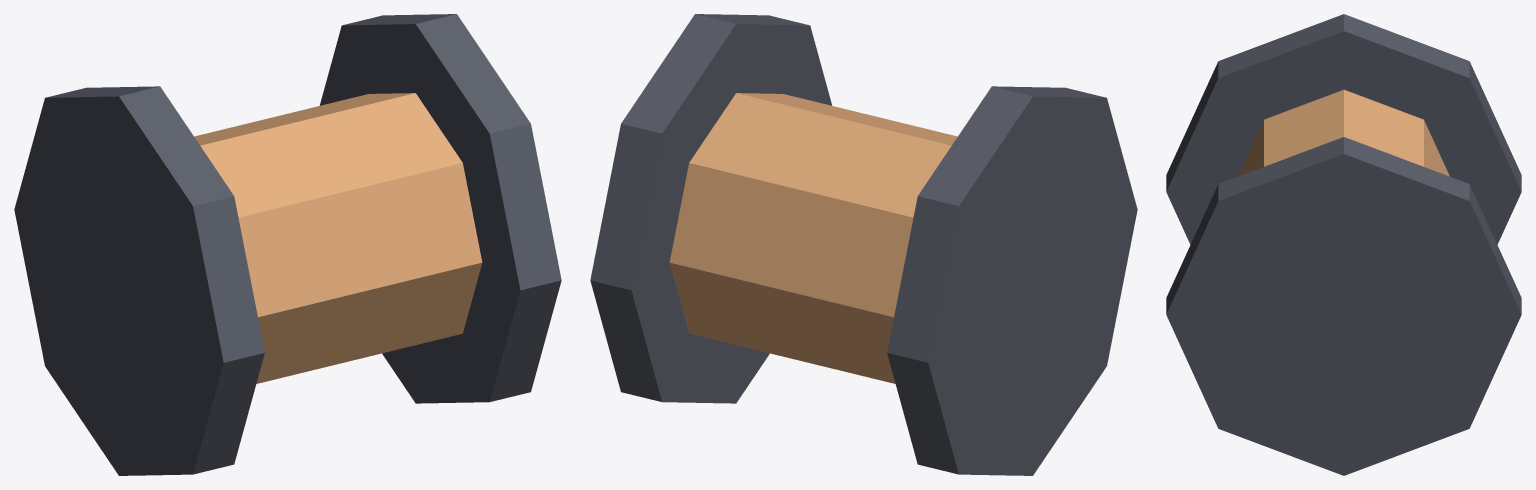
File: fio_cobre.glb
3 views of the same model, side by side, from view 1: azimuth 30°, elevation 25°; view 2: azimuth 150°, elevation 25°; view 3: azimuth 270°, elevation 25° (orthographic). The views are drawn at different scales.
Parts seen in each view (by area): view 1: fio_cobre; view 2: fio_cobre; view 3: fio_cobre.
Part boxes in pixels (<box>): fio_cobre: <box>14,14,561,475</box>; fio_cobre: <box>590,14,1137,475</box>; fio_cobre: <box>1166,14,1521,475</box>.
Bounding box in the file's own units: 0.205 × 0.22 × 0.22.
